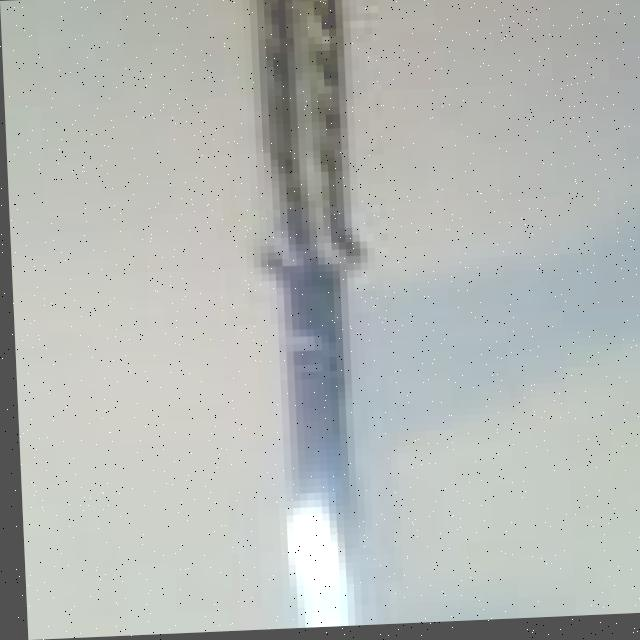knife: (235, 0, 378, 632)
